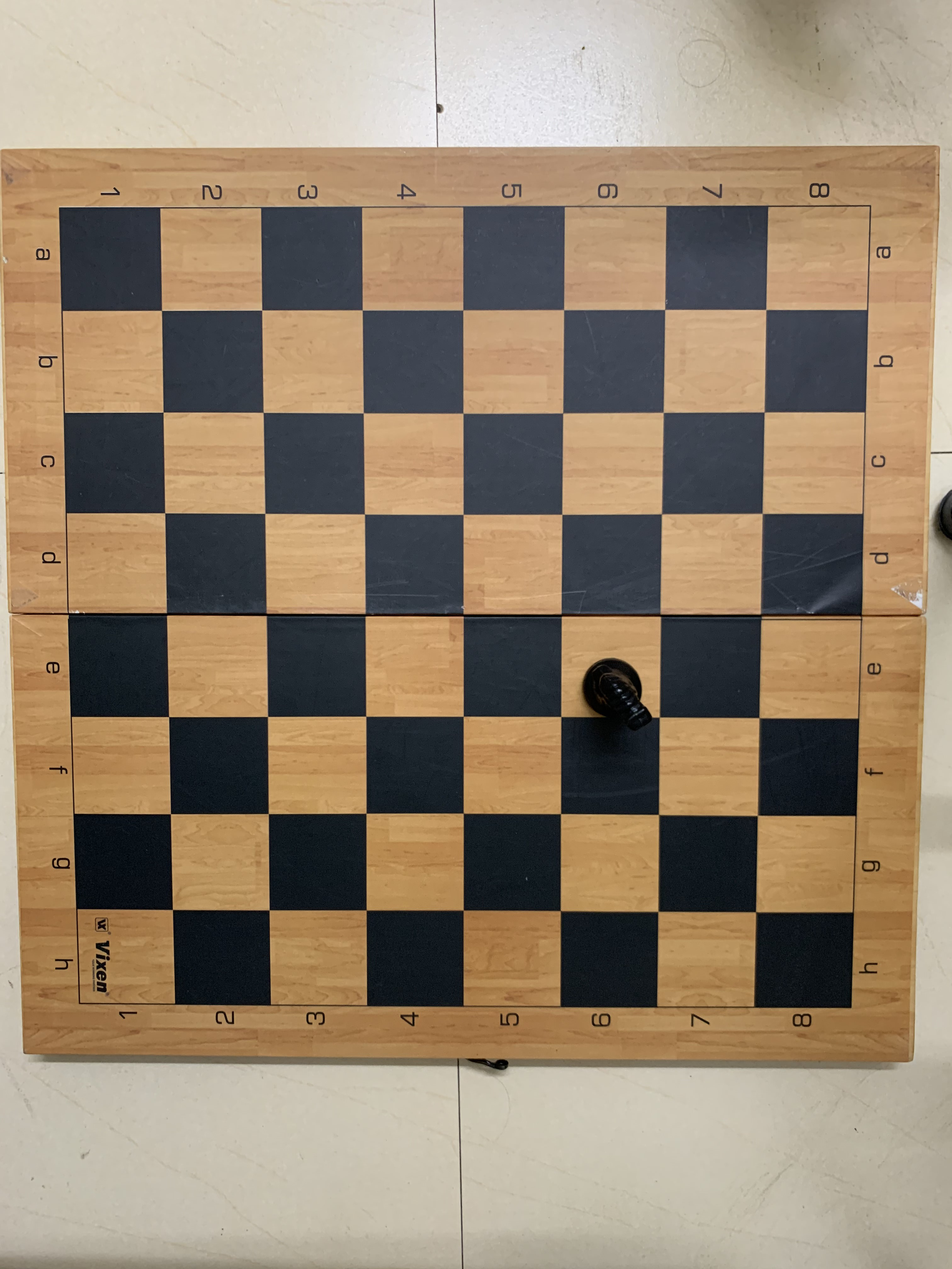black_knight: (574, 633, 661, 726)
